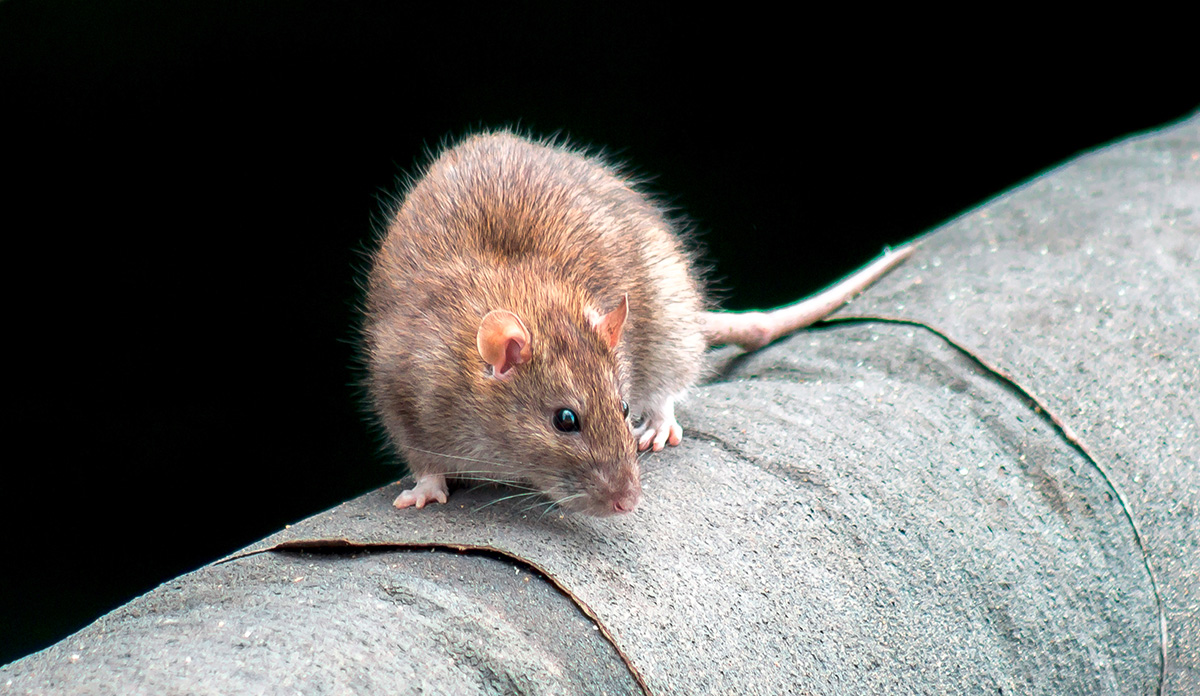rat: (340, 111, 804, 526)
